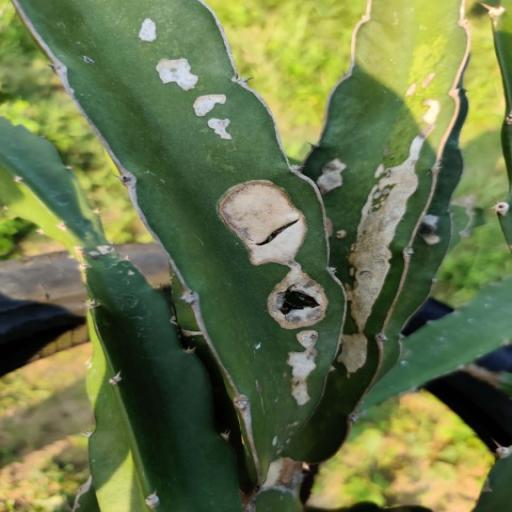stemcanker: (153, 54, 199, 90), (124, 12, 160, 49), (187, 94, 222, 118), (202, 119, 234, 144), (415, 70, 438, 93), (74, 52, 103, 68), (92, 243, 114, 257), (404, 81, 420, 99), (269, 432, 282, 450), (251, 340, 267, 352), (126, 267, 141, 279), (335, 226, 347, 240)
